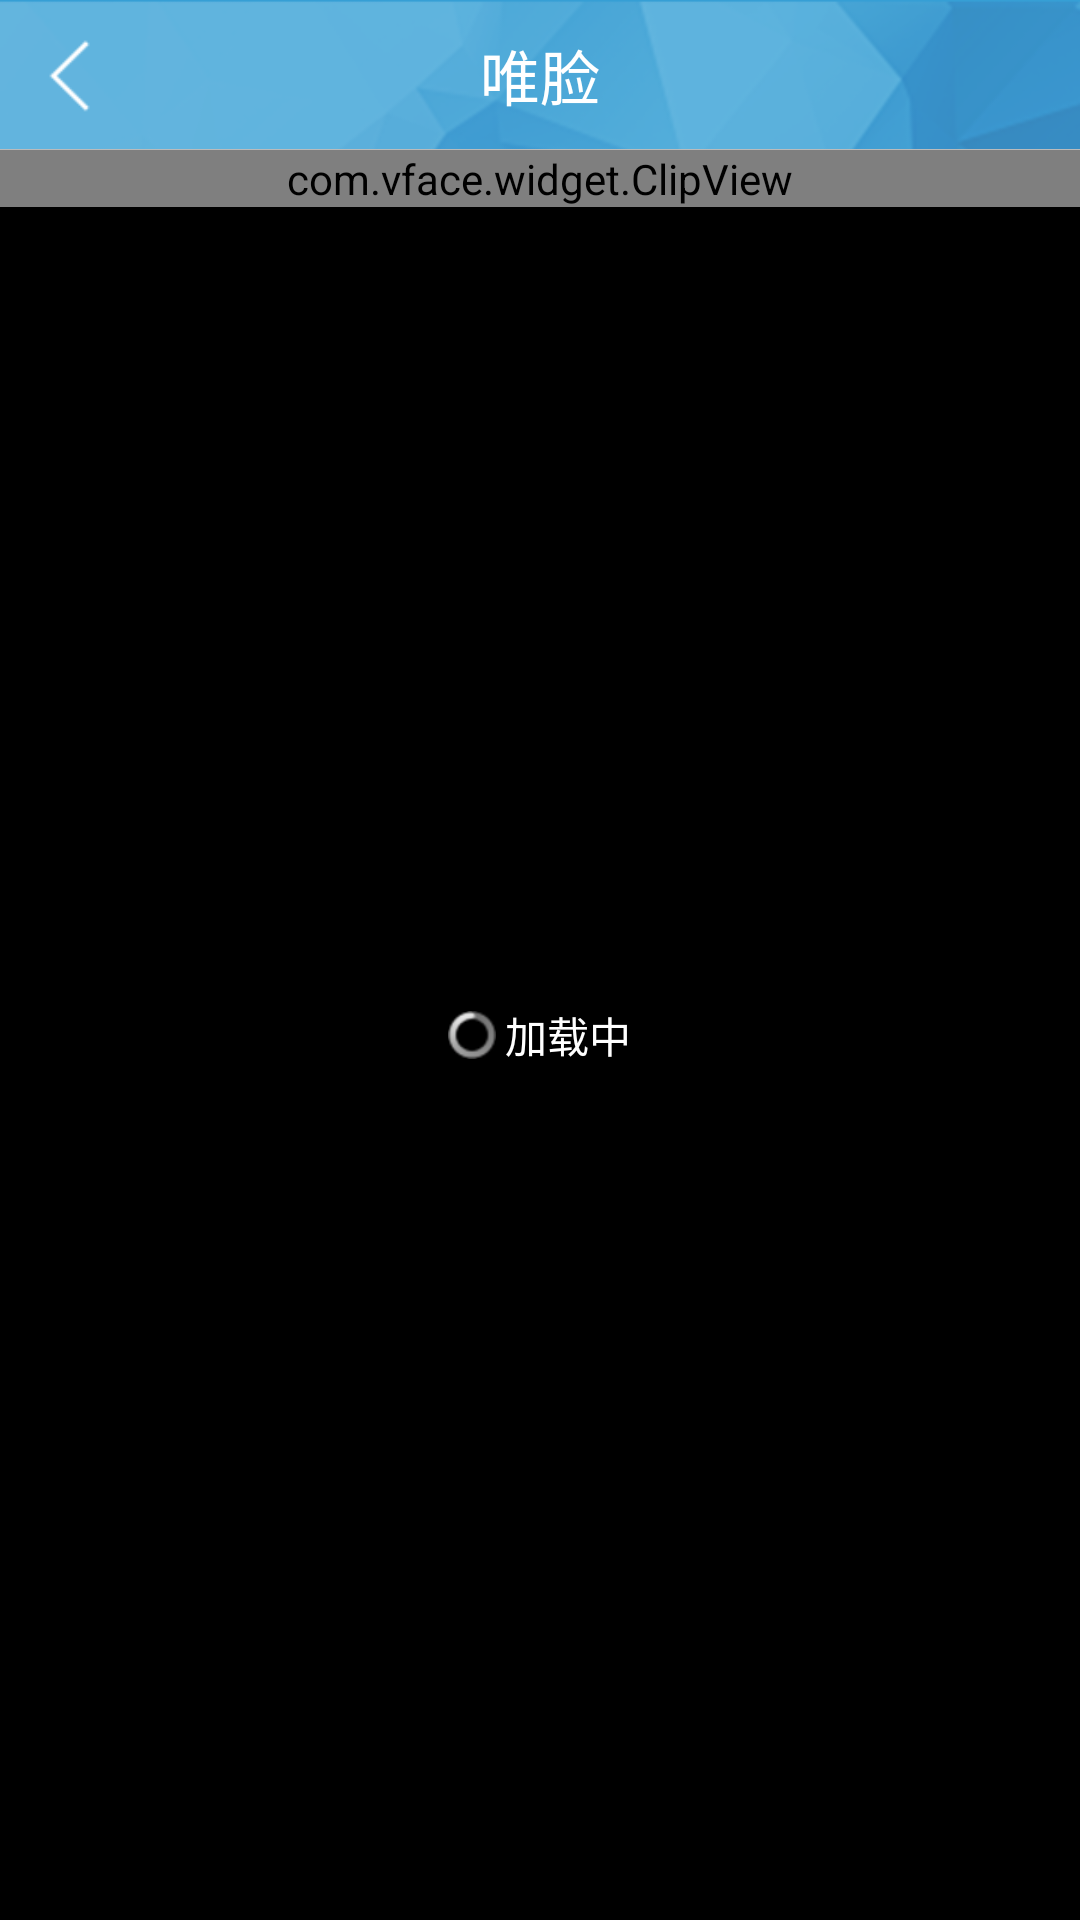

Named icons in this screenshot (1080w x 1920h) and their bounding boxes, (x1, y1, x2, y2):
back: (50, 41, 89, 111)
